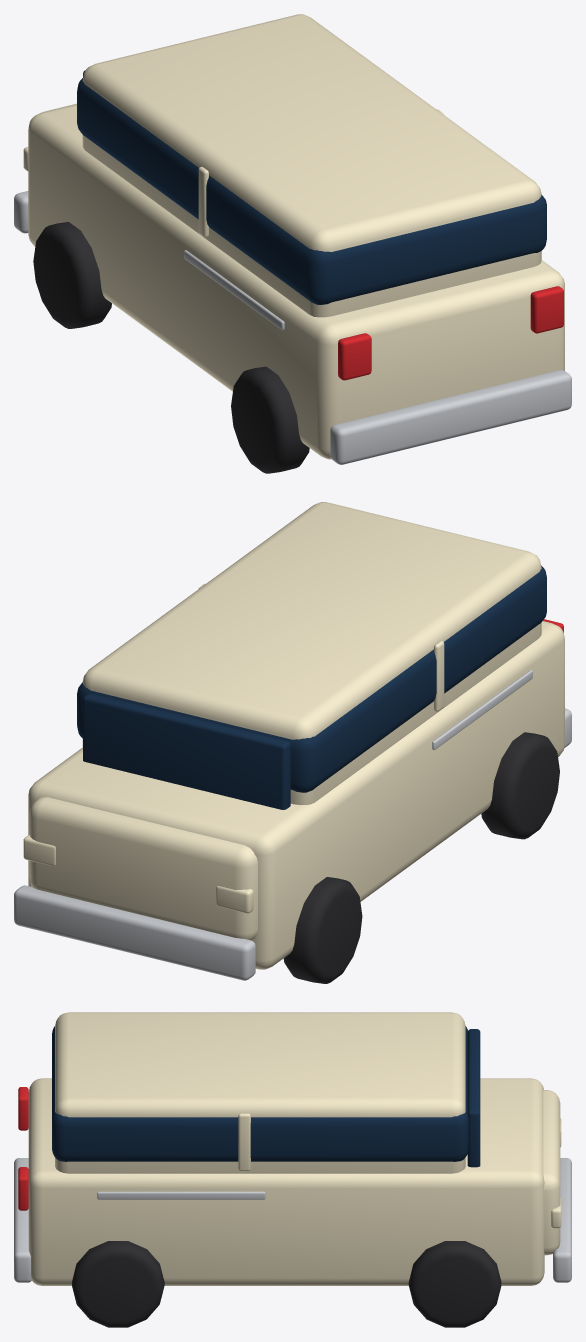
File: minivan-cream.glb
3 renders of one model, top to bottom at view 1: azimuth 30°, elevation 25°; view 2: azimuth 150°, elevation 25°; view 3: azimuth 270°, elevation 25°, orthographic. The views are drawn at different scales.
Visible parts, largest first — view 1: Van_Cabin, Van_Body, Van_GlassBand, Van_BumpR, Wheel_van2, Wheel_van0, Van_Tail_0, Van_Tail_1, Van_SlideRail_-1, Van_Bpil_-1, Van_BumpF; view 2: Van_Cabin, Van_Body, Van_Nose, Van_Windshield, Van_GlassBand, Van_BumpF, Wheel_van2, Wheel_van0, Van_SlideRail_-1, Van_Light_0, Van_Light_1, Van_Bpil_-1; view 3: Van_Body, Van_Cabin, Van_GlassBand, Wheel_van1, Wheel_van3, Van_Nose, Van_Windshield, Van_BumpF, Van_SlideRail_+1, Van_BumpR, Van_Bpil_+1, Van_Tail_0 (+1 smaller).
Boxes of the visible parts, x1=… form: Van_Cabin: x1=82, y1=14, x2=541, y2=317; Van_Body: x1=28, y1=104, x2=564, y2=459; Van_GlassBand: x1=77, y1=78, x2=546, y2=304; Van_BumpR: x1=330, y1=369, x2=571, y2=464; Wheel_van2: x1=231, y1=366, x2=309, y2=473; Wheel_van0: x1=33, y1=222, x2=111, y2=328; Van_Tail_0: x1=338, y1=333, x2=371, y2=380; Van_Tail_1: x1=530, y1=286, x2=563, y2=333; Van_SlideRail_-1: x1=184, y1=250, x2=284, y2=330; Van_Bpil_-1: x1=198, y1=166, x2=208, y2=237; Van_BumpF: x1=14, y1=191, x2=28, y2=233; Van_Cabin: x1=82, y1=502, x2=541, y2=804; Van_Body: x1=28, y1=621, x2=564, y2=969; Van_Nose: x1=29, y1=797, x2=257, y2=940; Van_Windshield: x1=83, y1=693, x2=290, y2=809; Van_GlassBand: x1=77, y1=565, x2=546, y2=792; Van_BumpF: x1=14, y1=885, x2=255, y2=980; Wheel_van2: x1=481, y1=732, x2=559, y2=839; Wheel_van0: x1=283, y1=877, x2=362, y2=983; Van_SlideRail_-1: x1=432, y1=670, x2=532, y2=750; Van_Light_0: x1=216, y1=886, x2=253, y2=913; Van_Light_1: x1=23, y1=835, x2=55, y2=866; Van_Bpil_-1: x1=434, y1=641, x2=444, y2=711; Van_Body: x1=28, y1=1078, x2=544, y2=1285; Van_Cabin: x1=55, y1=1012, x2=465, y2=1173; Van_GlassBand: x1=52, y1=1026, x2=468, y2=1161; Wheel_van1: x1=408, y1=1241, x2=501, y2=1327; Wheel_van3: x1=72, y1=1241, x2=164, y2=1327; Van_Nose: x1=543, y1=1090, x2=560, y2=1255; Van_Windshield: x1=467, y1=1029, x2=480, y2=1167; Van_BumpF: x1=553, y1=1158, x2=571, y2=1282; Van_SlideRail_+1: x1=97, y1=1191, x2=265, y2=1199; Van_BumpR: x1=14, y1=1158, x2=31, y2=1282; Van_Bpil_+1: x1=238, y1=1113, x2=250, y2=1171; Van_Tail_0: x1=18, y1=1087, x2=28, y2=1130.
Bounding box in the file's own units: 2.65 × 2.26 × 5.3.
